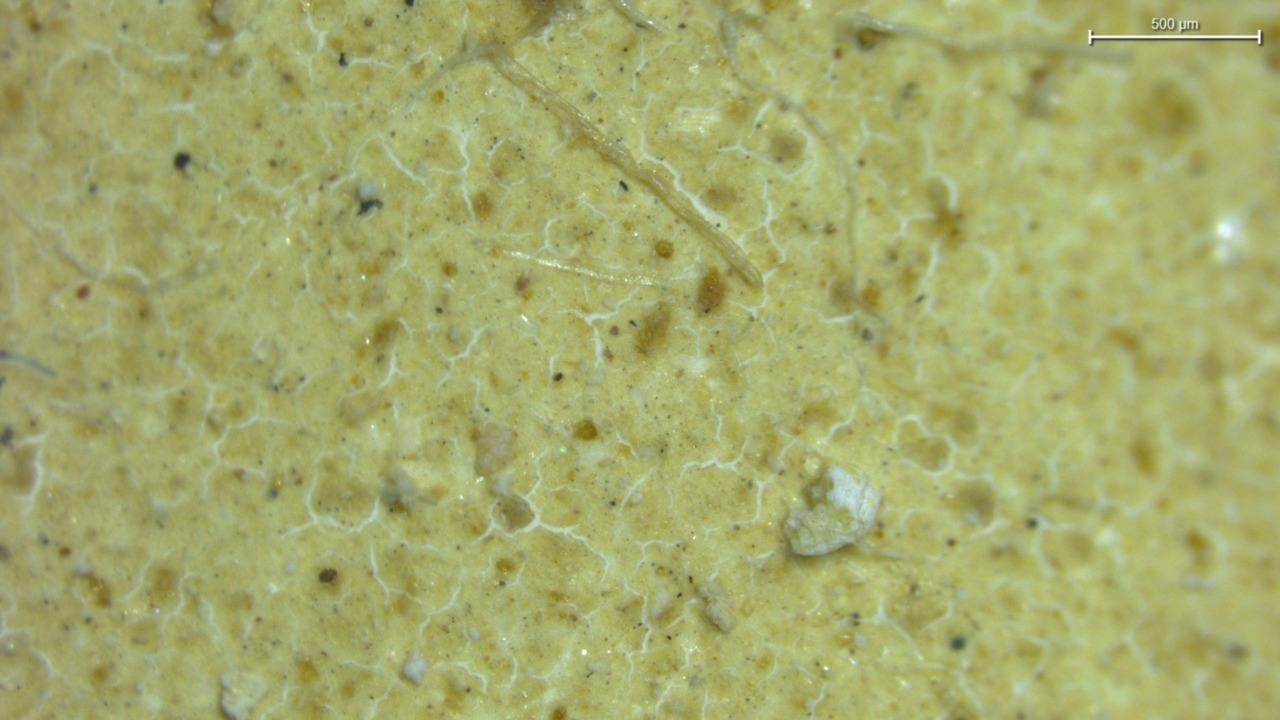microplastic_fragment: (783, 465, 880, 555), (219, 667, 269, 720), (698, 577, 735, 632), (403, 651, 428, 685)
